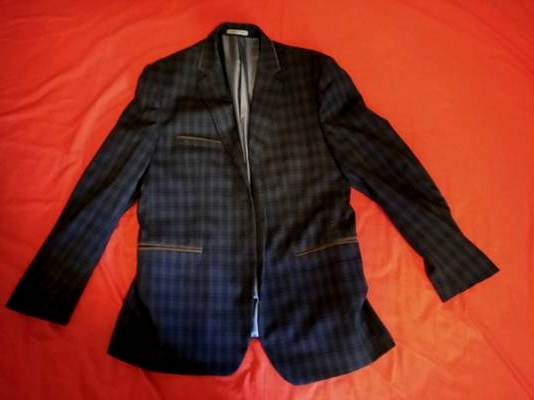Blazer: (7, 14, 482, 376)
